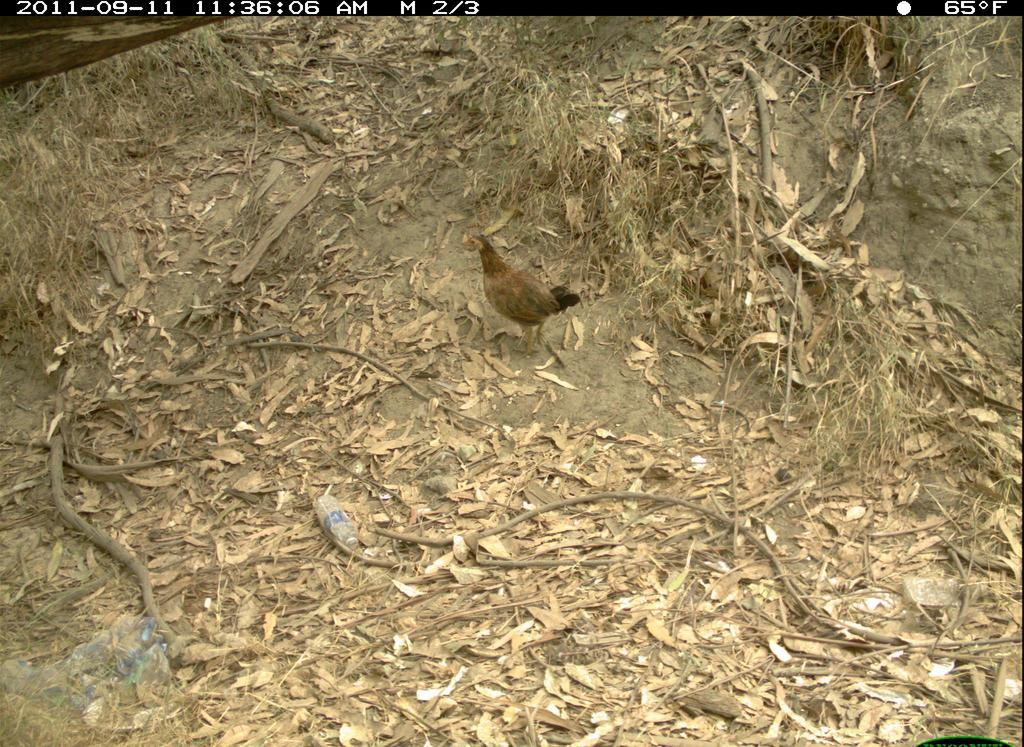bird: (453, 219, 591, 366)
